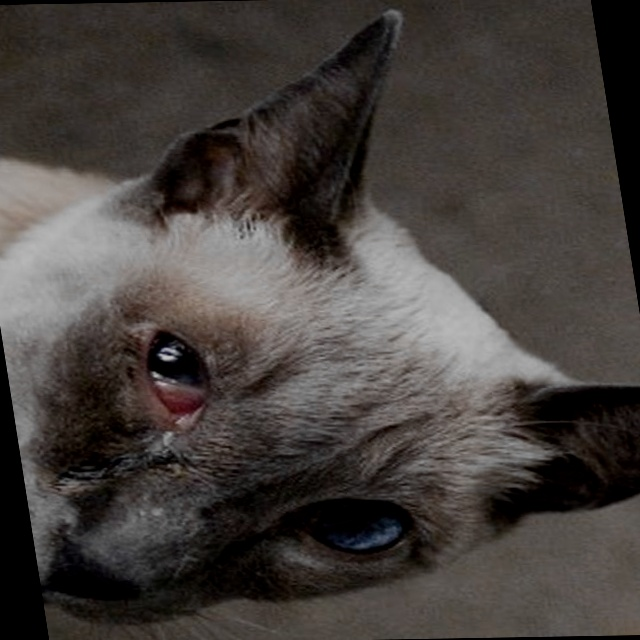eye_infection: (142, 322, 216, 434)
